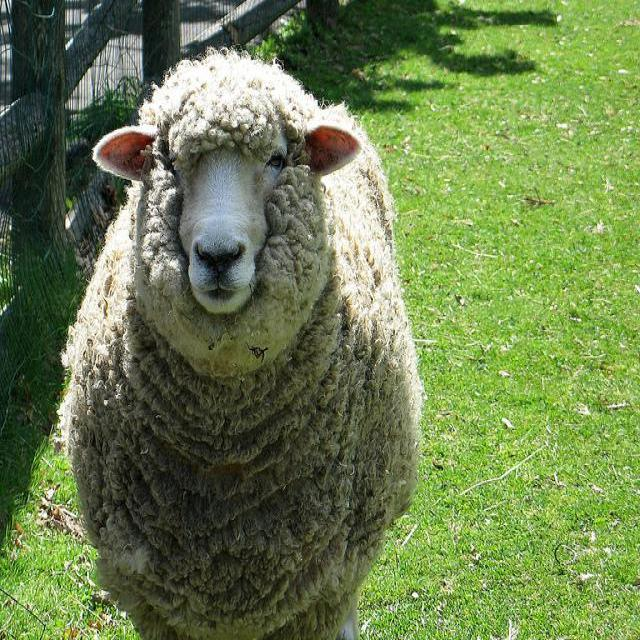Sheep: (60, 49, 420, 631)
